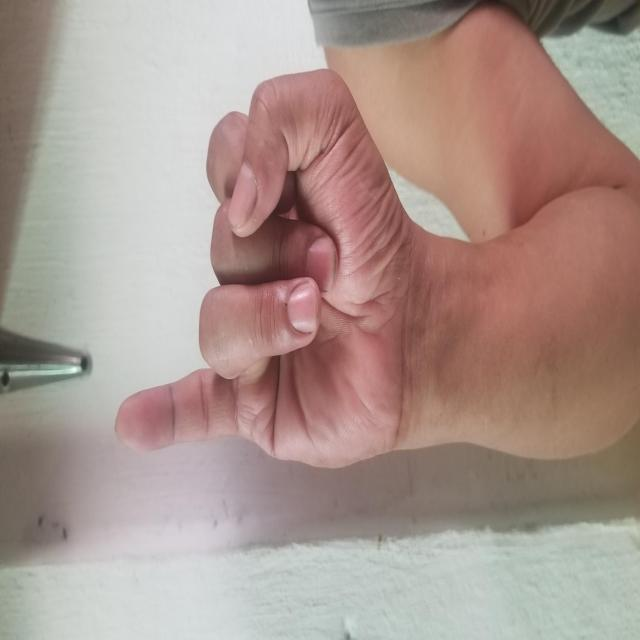I: (172, 115, 575, 401)
